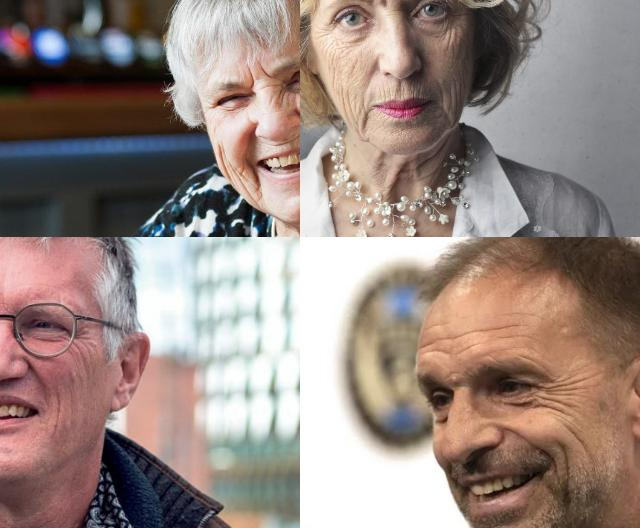bunny_line: (272, 88, 290, 110)
crows_feet: (536, 381, 564, 409), (68, 324, 90, 350), (448, 10, 466, 37), (316, 20, 336, 40)
forehead: (480, 318, 520, 334), (418, 334, 440, 360), (420, 316, 450, 334), (500, 308, 540, 320), (453, 343, 483, 357), (440, 330, 474, 342)
frown_line: (245, 61, 271, 85), (379, 0, 392, 9)
gummy_smile: (506, 427, 540, 450), (23, 354, 42, 382)
masseter: (215, 146, 241, 186), (336, 90, 364, 126), (564, 420, 590, 452), (50, 390, 66, 440), (446, 82, 464, 122), (446, 42, 466, 70), (562, 458, 576, 497), (327, 48, 341, 80)
sad_smile: (242, 162, 268, 198)
smoker_lines: (380, 85, 428, 97)
